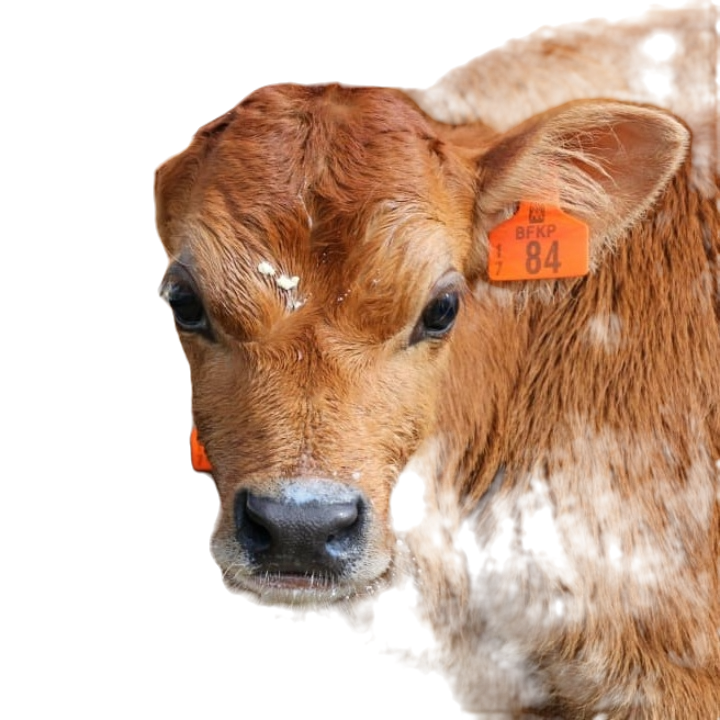Cow: (136, 82, 719, 719)
